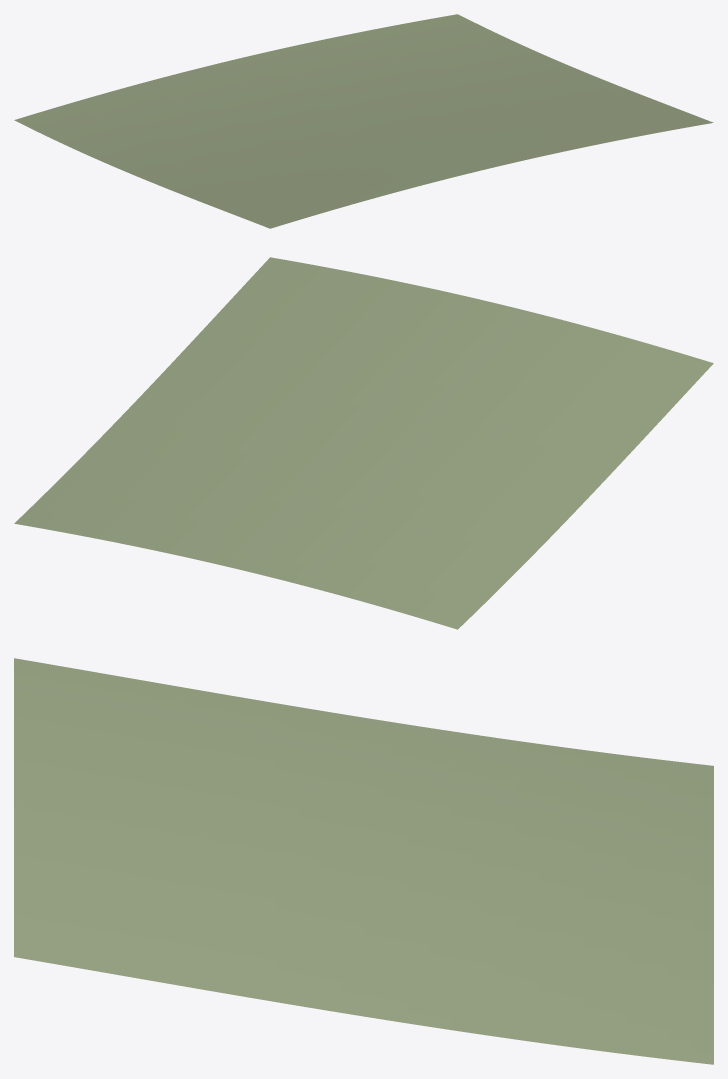
File: valley-15-13.glb
3 views of the same model, one above another, from view 1: azimuth 30°, elevation 25°; view 2: azimuth 150°, elevation 25°; view 3: azimuth 270°, elevation 25° (orthographic). The views are drawn at different scales.
Parts seen in each view (by area): view 1: valley-15-13; view 2: valley-15-13; view 3: valley-15-13.
Boxes of the visible parts, x1,y1,x2,y2 form: valley-15-13: [14, 14, 713, 228]; valley-15-13: [14, 257, 713, 629]; valley-15-13: [14, 658, 713, 1064].
Bounding box in the file's own units: 256 × 48.49 × 256.
